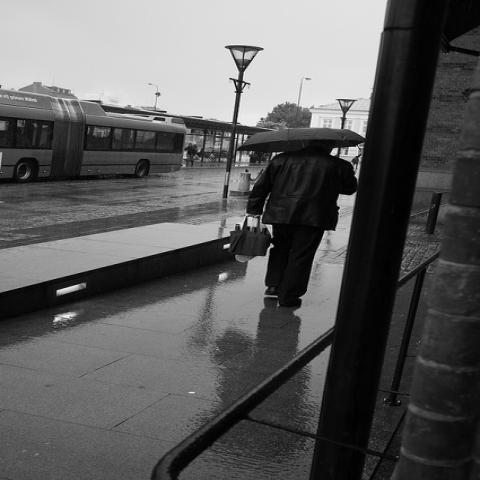bus: (4, 82, 187, 183)
